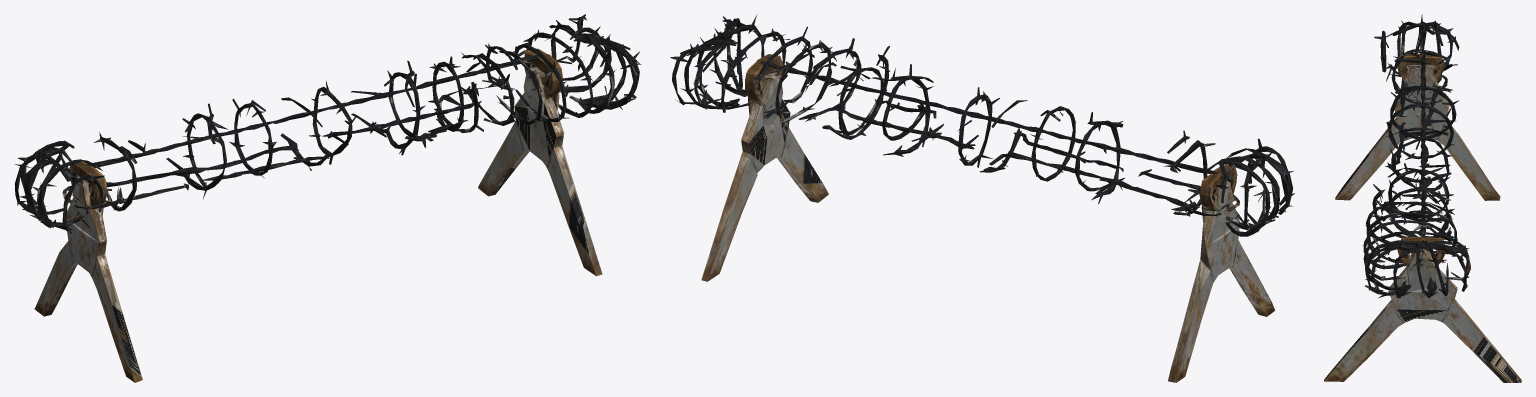
Rendered from razor_wire_coil.glb.
3 views of the same model, side by side, from view 1: azimuth 30°, elevation 25°; view 2: azimuth 150°, elevation 25°; view 3: azimuth 270°, elevation 25° (orthographic). The views are drawn at different scales.
Bounding box in the file's own units: 1.91 × 0.6435 × 0.6754.
Materials: 1 (1 with a texture image).
